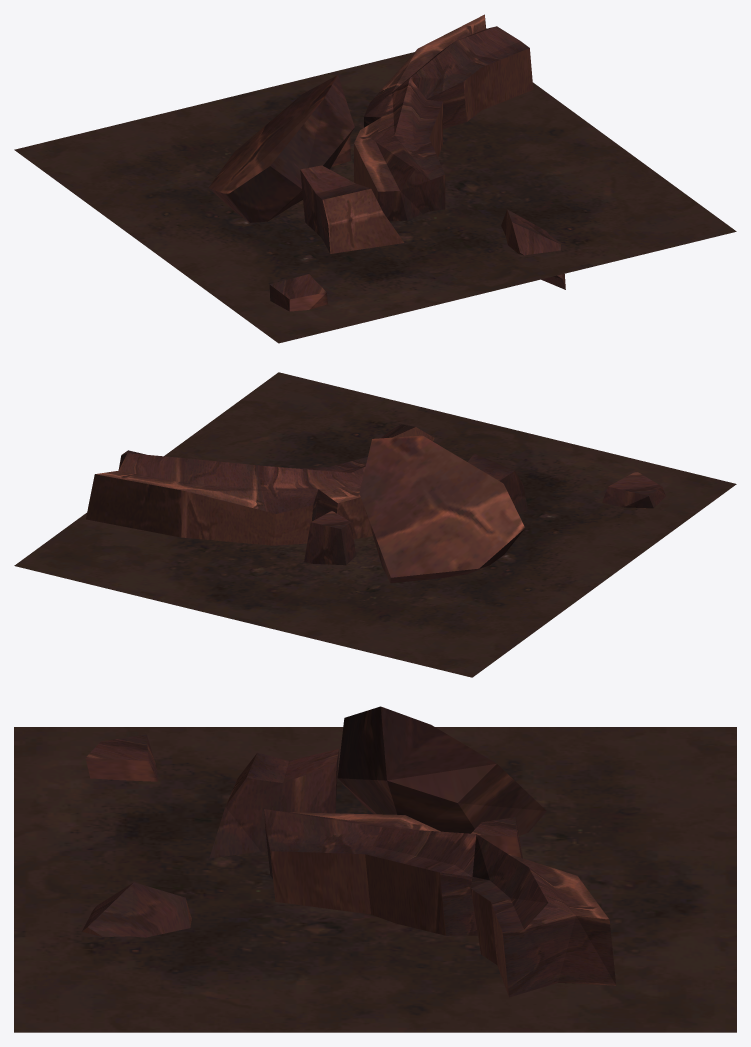
File: lava_rubble_04.fbx
3 renders of one model, top to bottom at view 1: azimuth 30°, elevation 25°; view 2: azimuth 150°, elevation 25°; view 3: azimuth 270°, elevation 25°, orthographic. The views are drawn at different scales.
Visible parts, largest first — view 1: obj1.026; view 2: obj1.026; view 3: obj1.026.
Boxes of the visible parts, left/top/right/bottom form: obj1.026: left=14, top=14, right=736, bottom=343; obj1.026: left=14, top=372, right=736, bottom=677; obj1.026: left=14, top=706, right=736, bottom=1032.
Size of the model in its own units: 4 by 1.21 by 4.
